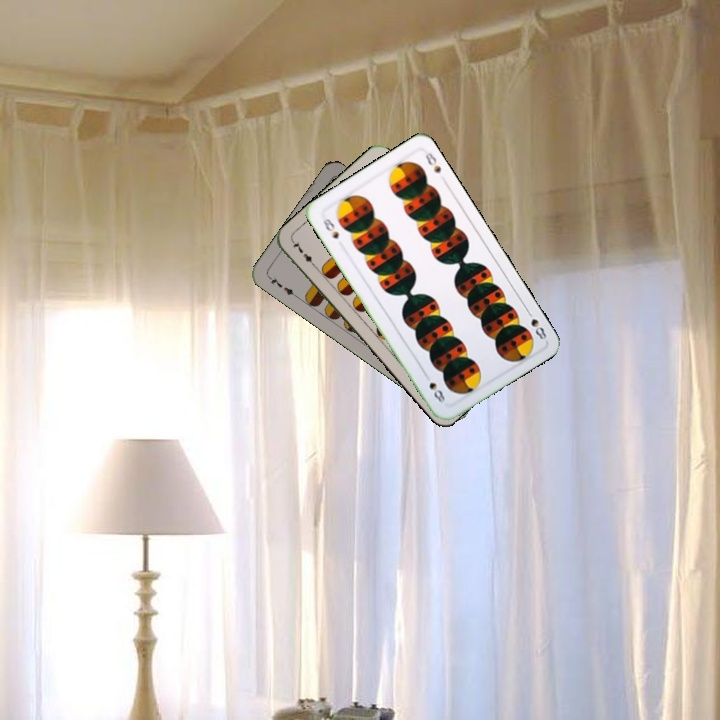E7: (288, 237, 319, 271), (264, 272, 300, 300)
S8: (522, 305, 549, 343), (319, 214, 341, 242)
